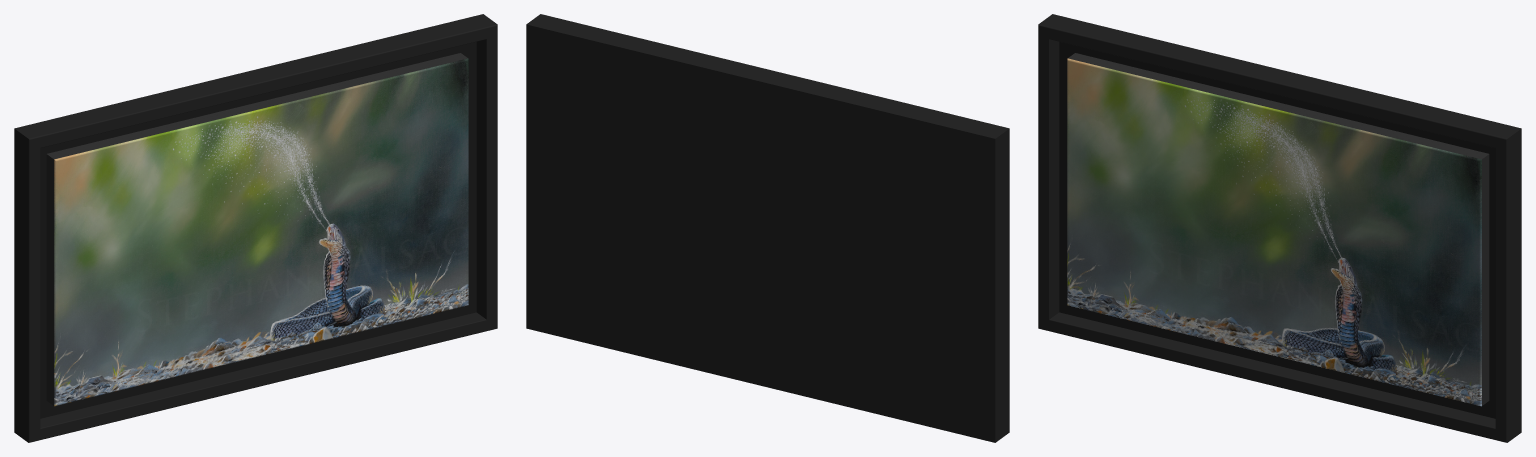
The model's file is tableau-serpent-cobra-classique-72b44d7b.glb.
The picture shows the model from 3 angles, left to right: view 1: azimuth 30°, elevation 25°; view 2: azimuth 150°, elevation 25°; view 3: azimuth 330°, elevation 25°; orthographic projection.
Parts seen in each view (by area): view 1: Painting; view 2: Painting; view 3: Painting.
Part boxes in pixels (box(x1,y1,x2,y2)): Painting: box(14, 14, 497, 442); Painting: box(526, 14, 1009, 442); Painting: box(1038, 14, 1521, 442).
Size of the model in its own units: 0.736 by 0.456 by 0.04.
4 materials, 2 textured.
